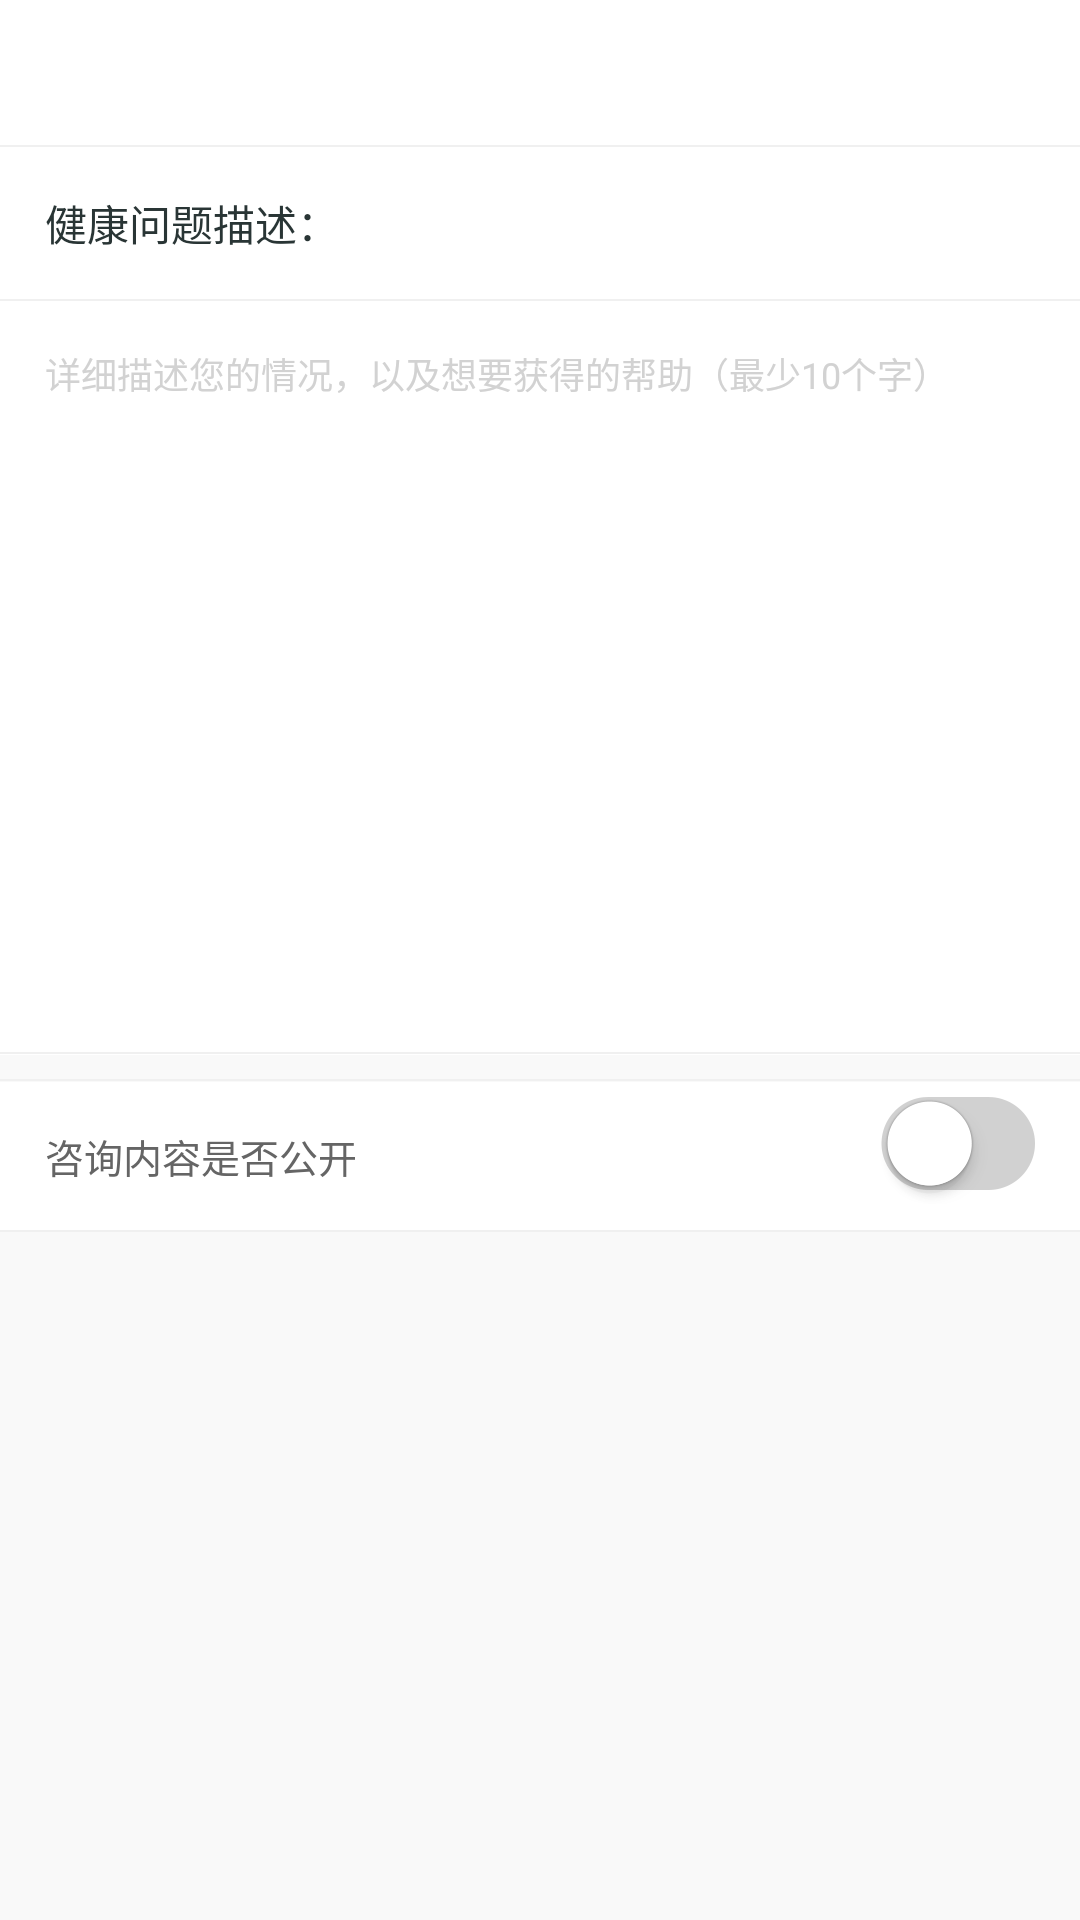

Named icons in this screenshot (1080 × 1920) and their bounding boxes, (x1, y1, x2, y2):
check off: (882, 1097, 1035, 1193)
